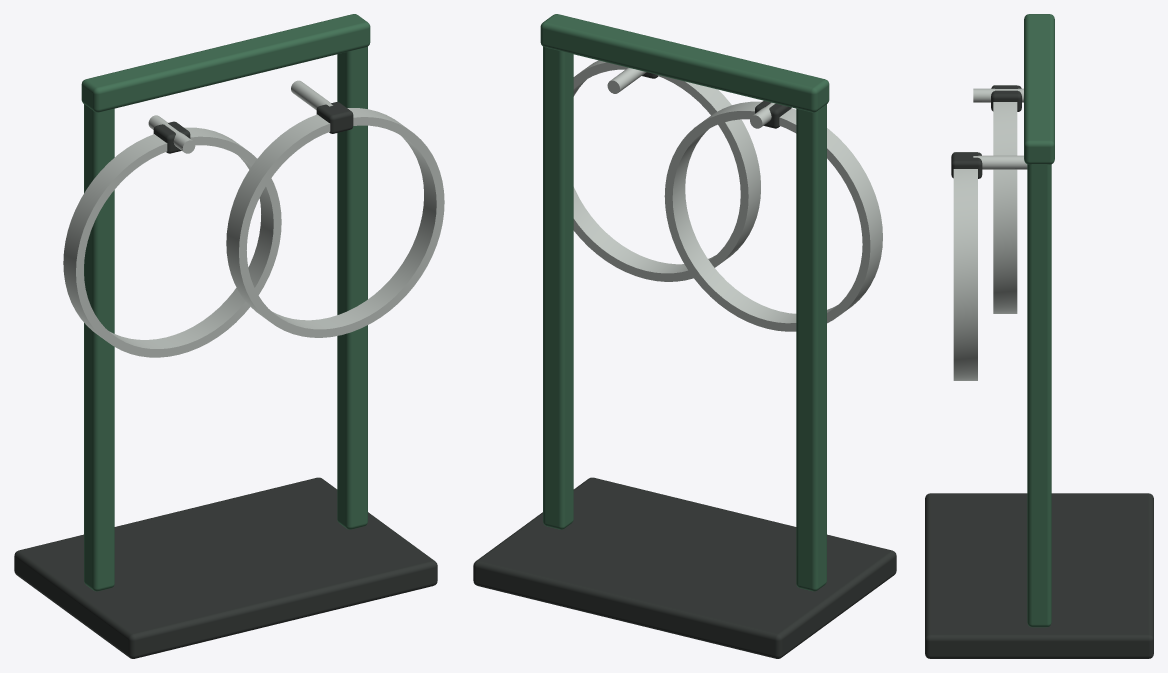
Rendered from sawmill-and-timber-yard-saw-blade-coil-rack-175d9327__31168.glb.
3 renders of one model, left to right at view 1: azimuth 30°, elevation 25°; view 2: azimuth 150°, elevation 25°; view 3: azimuth 270°, elevation 25°, orthographic. The views are drawn at different scales.
Parts seen in each view (by area): view 1: saw-blade-coil-rack; view 2: saw-blade-coil-rack; view 3: saw-blade-coil-rack.
Part boxes in pixels (<box>): saw-blade-coil-rack: <box>14,14,444,658</box>; saw-blade-coil-rack: <box>473,14,896,658</box>; saw-blade-coil-rack: <box>925,14,1153,658</box>.
Size of the model in its own units: 0.88 by 1.28 by 0.52.
